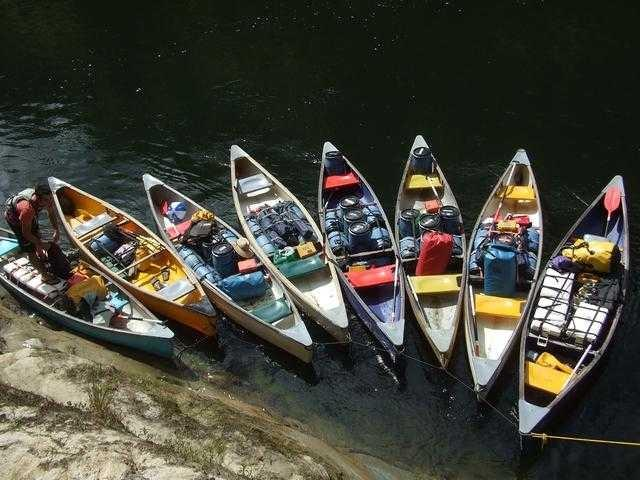kayak: (142, 173, 313, 363), (516, 175, 629, 436), (46, 177, 218, 344), (229, 144, 352, 347), (0, 233, 174, 358), (461, 147, 544, 396), (318, 141, 407, 353), (394, 133, 466, 368)
